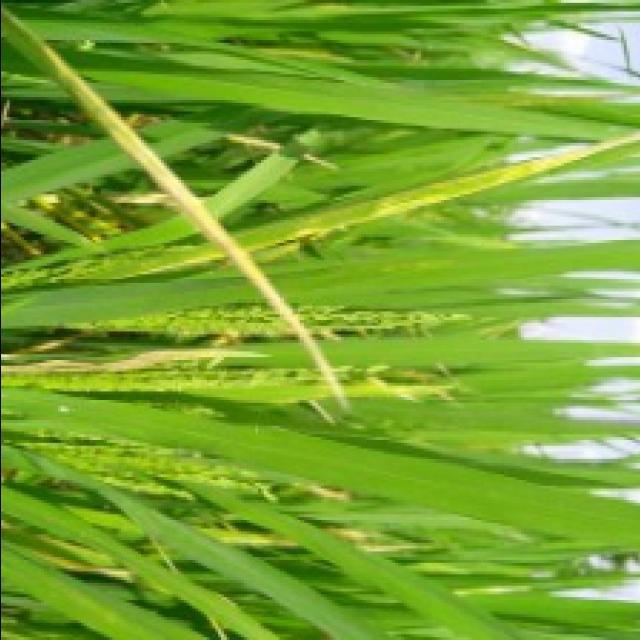Unhealthy: (44, 42, 350, 413), (0, 350, 257, 374)
